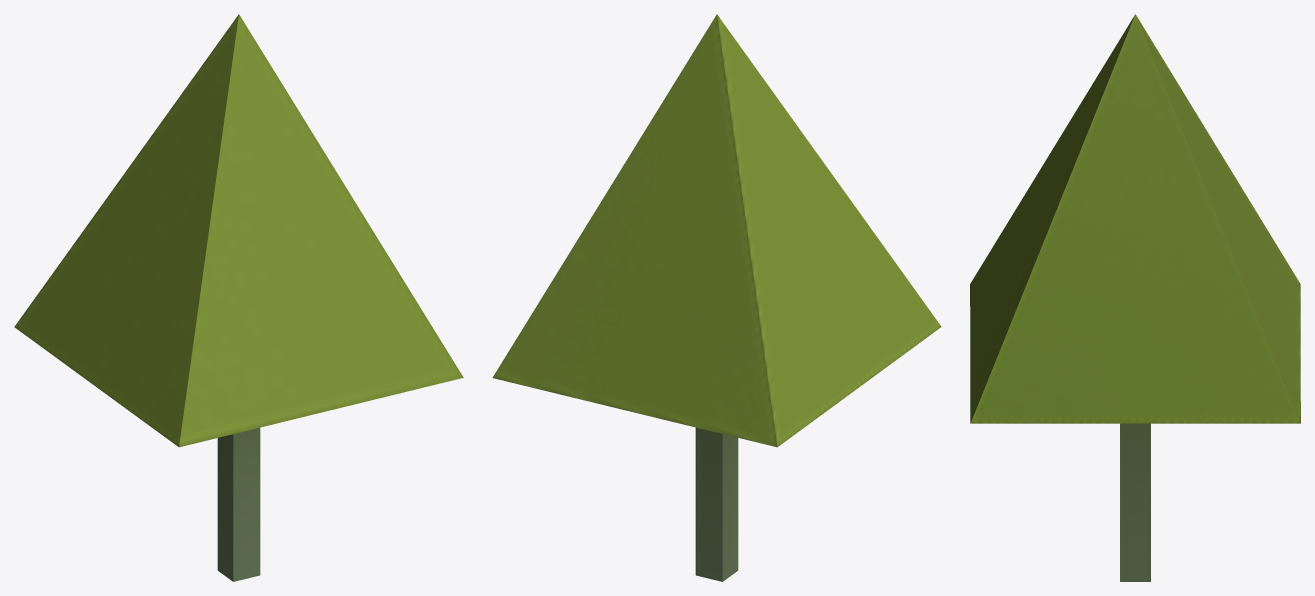
File: world1_tree01_fbx.fbx
3 renders of one model, left to right at view 1: azimuth 30°, elevation 25°; view 2: azimuth 150°, elevation 25°; view 3: azimuth 270°, elevation 25°, orthographic.
Parts seen in each view (by area): view 1: world1_tree01; view 2: world1_tree01; view 3: world1_tree01.
Part boxes in pixels (<box>): world1_tree01: <box>14,14,463,581</box>; world1_tree01: <box>492,14,941,581</box>; world1_tree01: <box>970,14,1300,581</box>.
Size of the model in its own units: 45.18 by 84.61 by 45.18.
